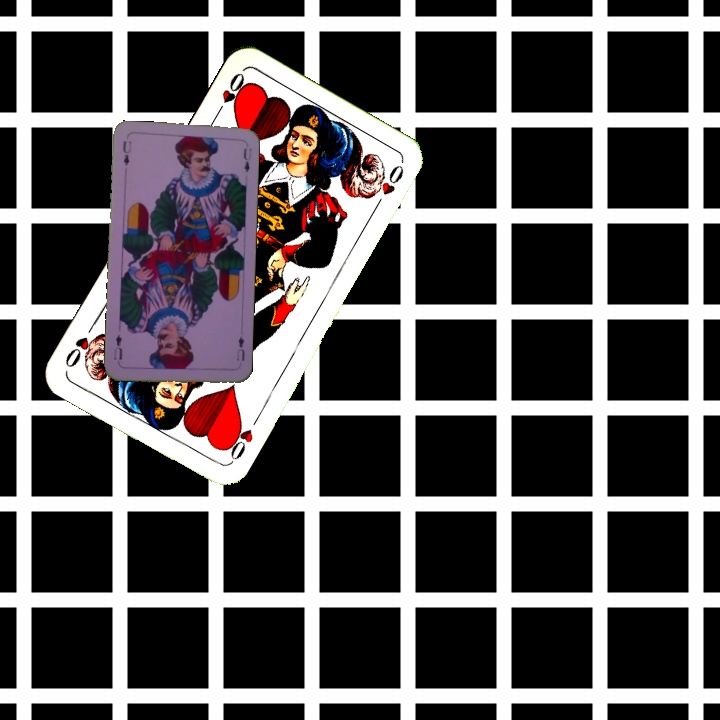EU: (119, 137, 134, 168), (233, 333, 247, 363)
HO: (210, 68, 248, 122), (220, 416, 256, 466)
